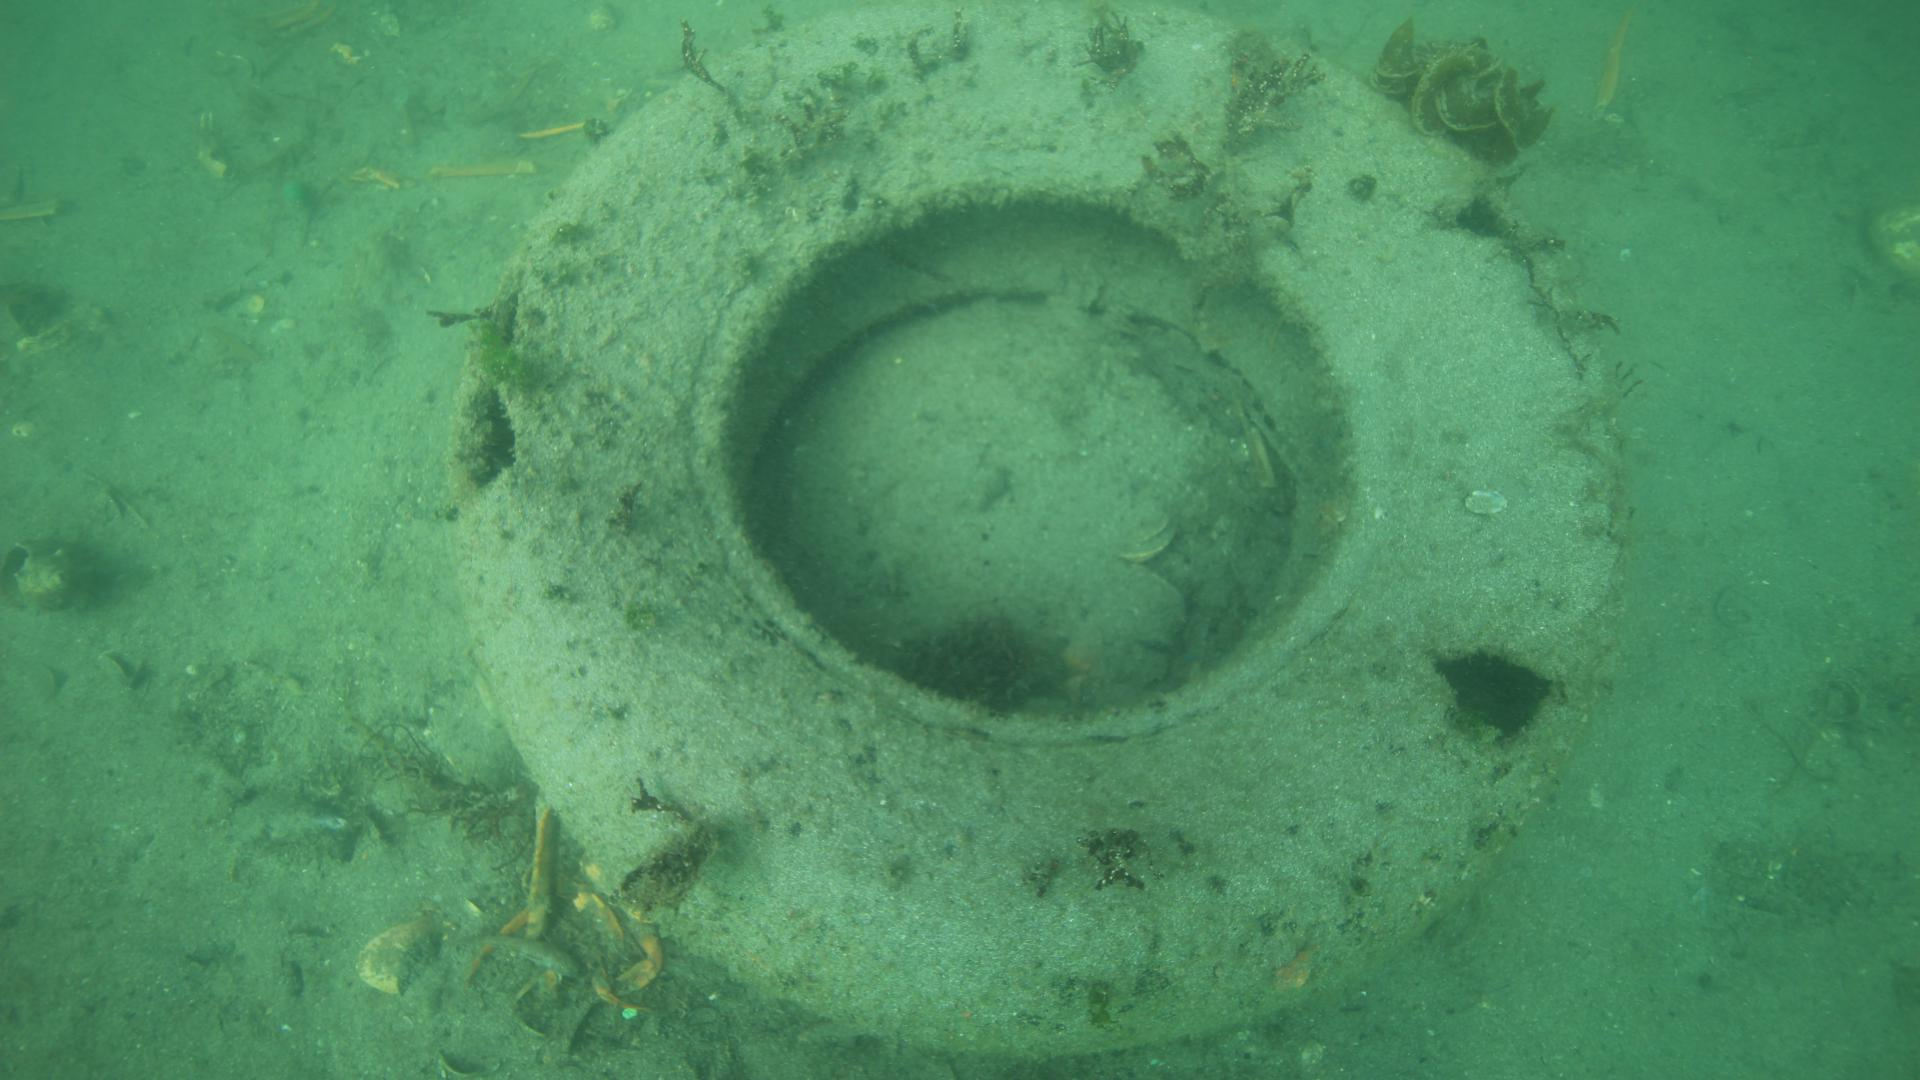tire: (444, 1, 1626, 1064)
